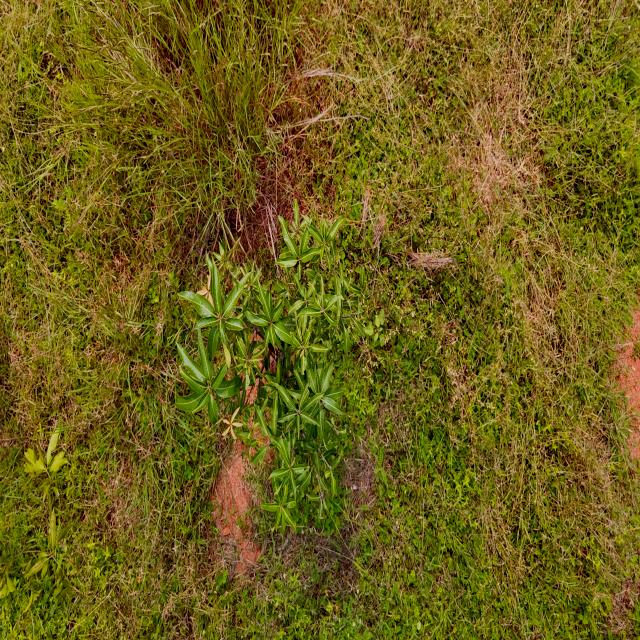mangoTree: (175, 197, 365, 534)
